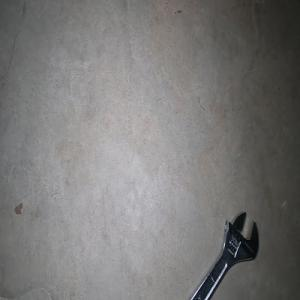Wrench: (190, 212, 258, 300)
